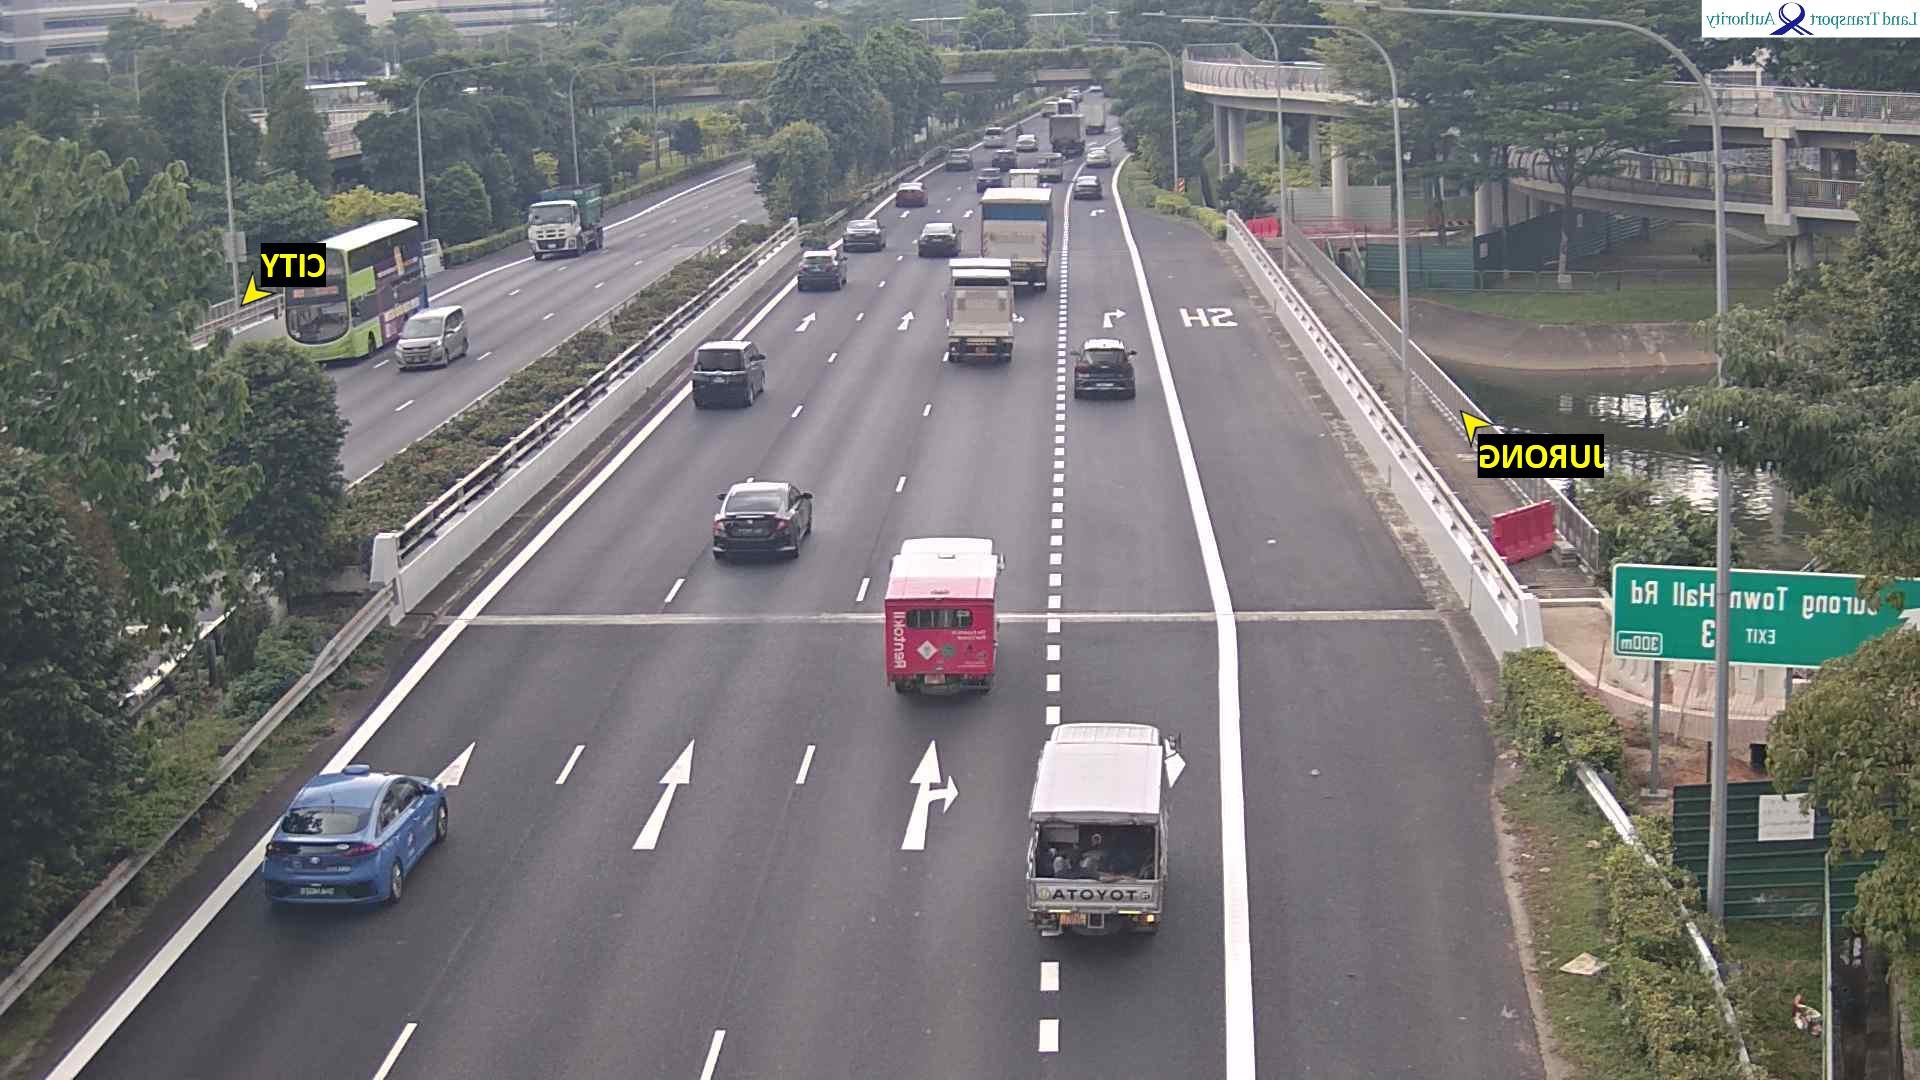incoming: (272, 240, 361, 373), (390, 307, 463, 373), (521, 200, 583, 260)
